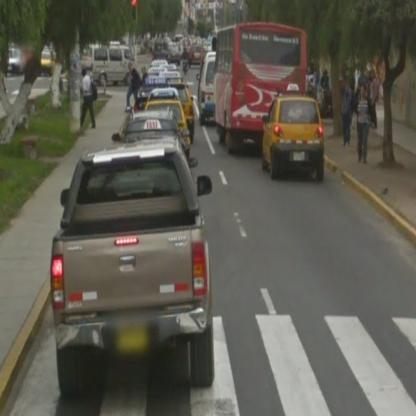Peaton: (351, 85, 379, 164), (78, 71, 98, 133)
Pista: (60, 67, 415, 275)
Vehiculo: (52, 138, 216, 401), (214, 24, 308, 151), (263, 96, 325, 182)
